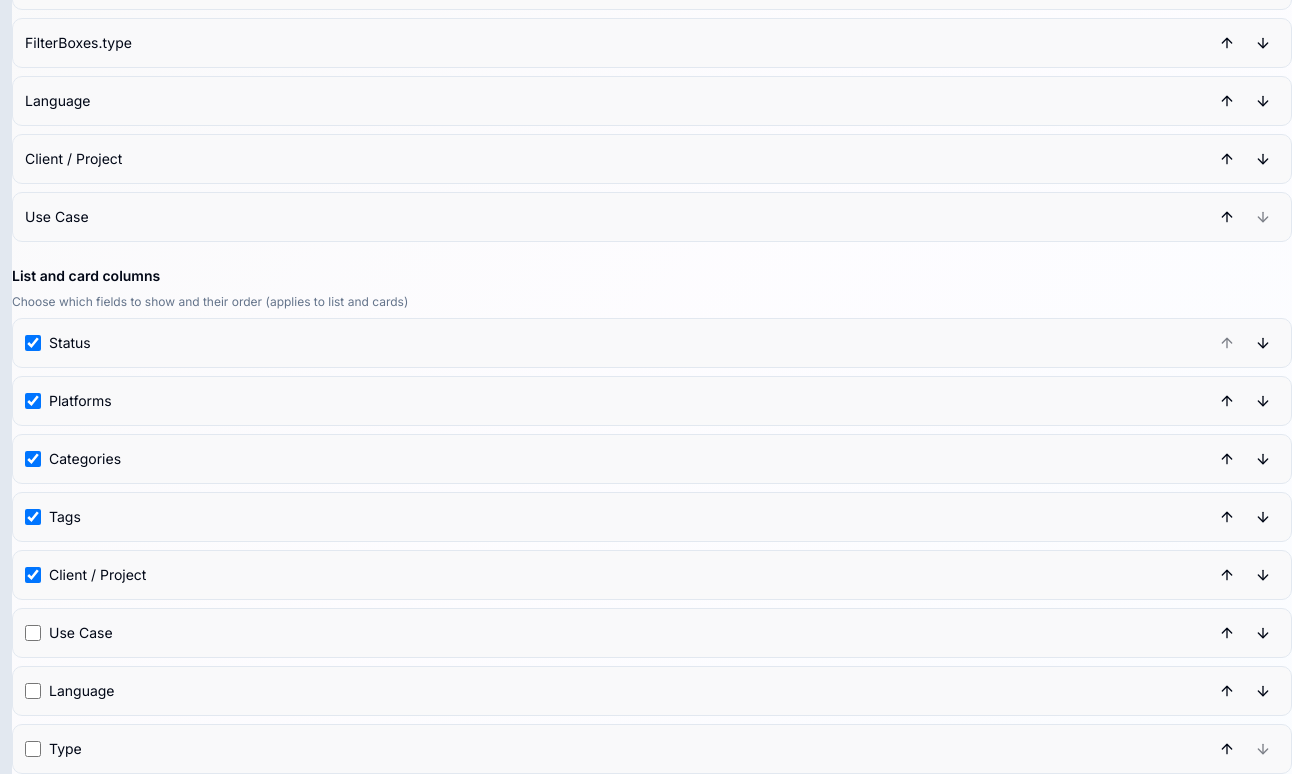
Test case: ProfileDashboardTab › disables the last remaining visible column checkbox
(page scrolled)
Act — uncheck four of the five default visible columns (status stays)
What coordinates should you click on to do the following:
click the checkbox labelled "Platforms"
I would click on:
 (33, 401)
Its box is [25,393,41,409].
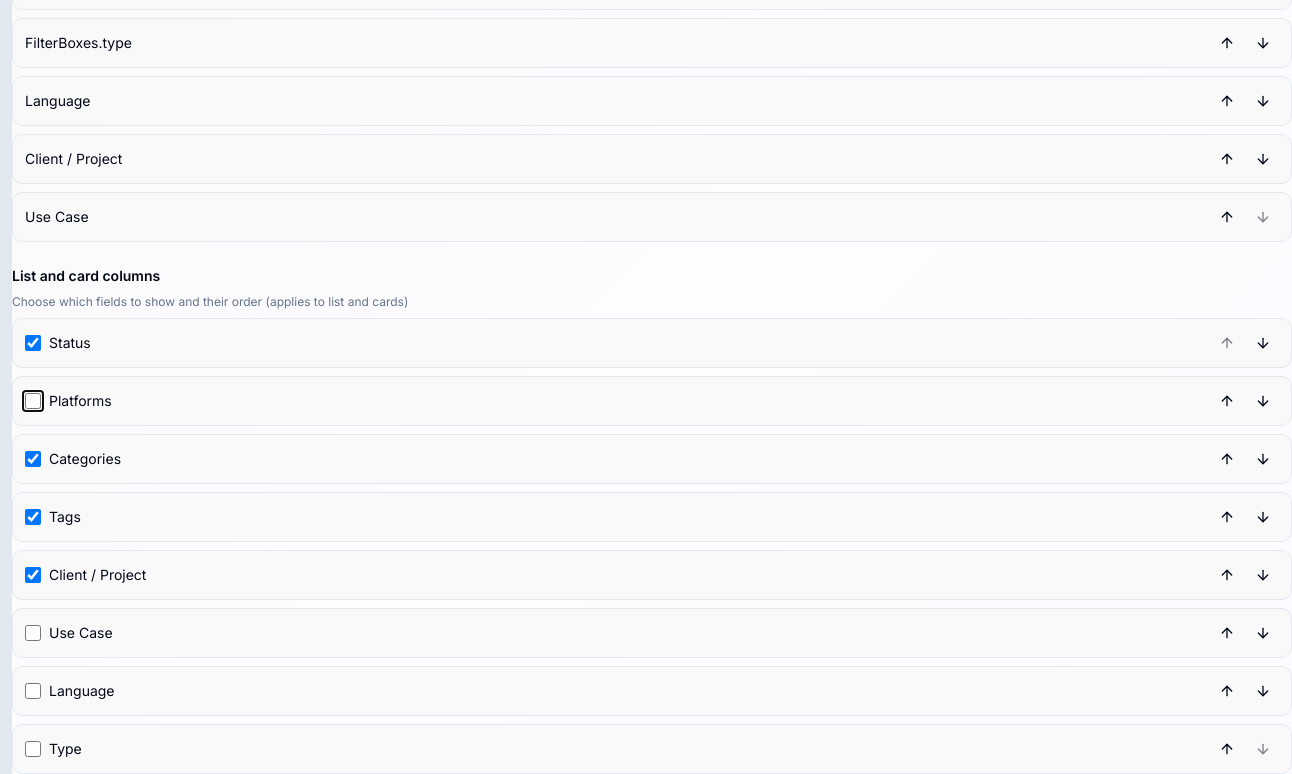
What coordinates should you click on to do the following:
click the checkbox labelled "Categories"
I would click on:
 (33, 459)
Its box is [25,451,41,467].
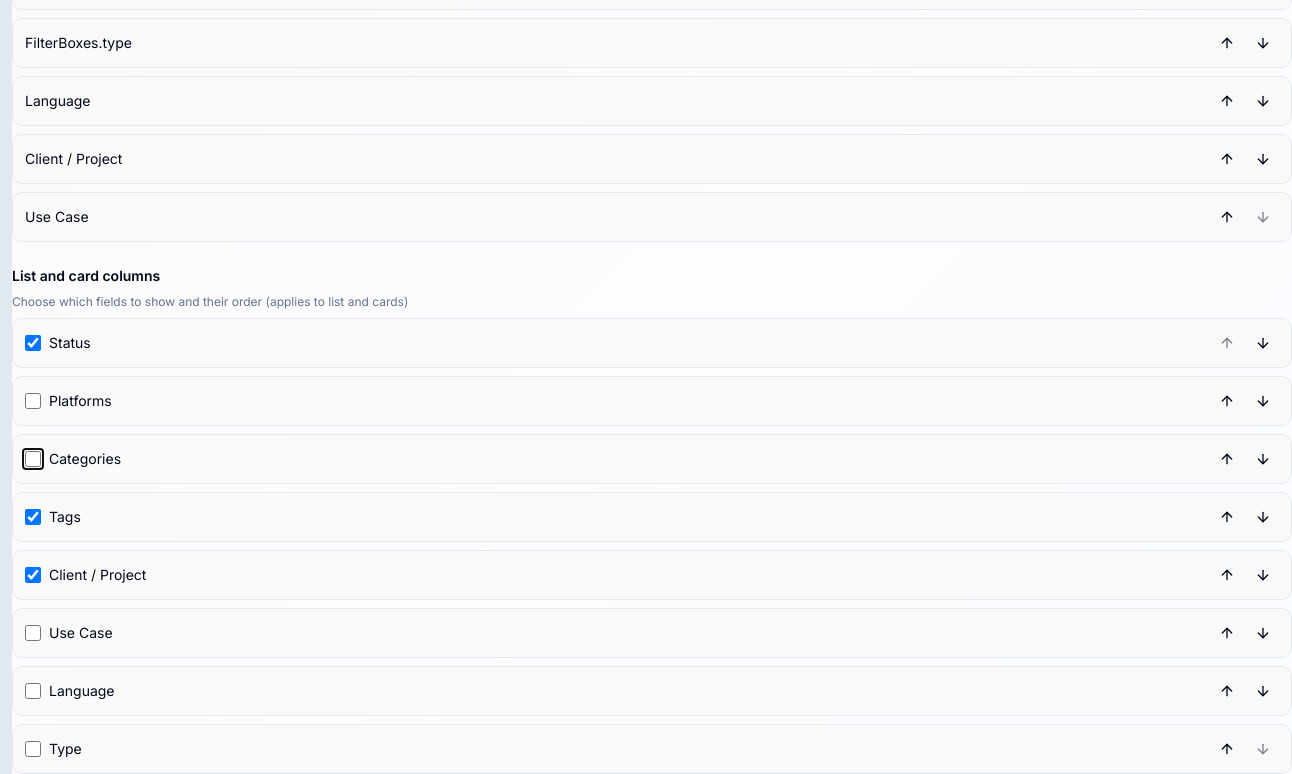
What coordinates should you click on to do the following:
click the checkbox labelled "Tags"
I would click on:
 (33, 517)
Its box is [25,509,41,525].
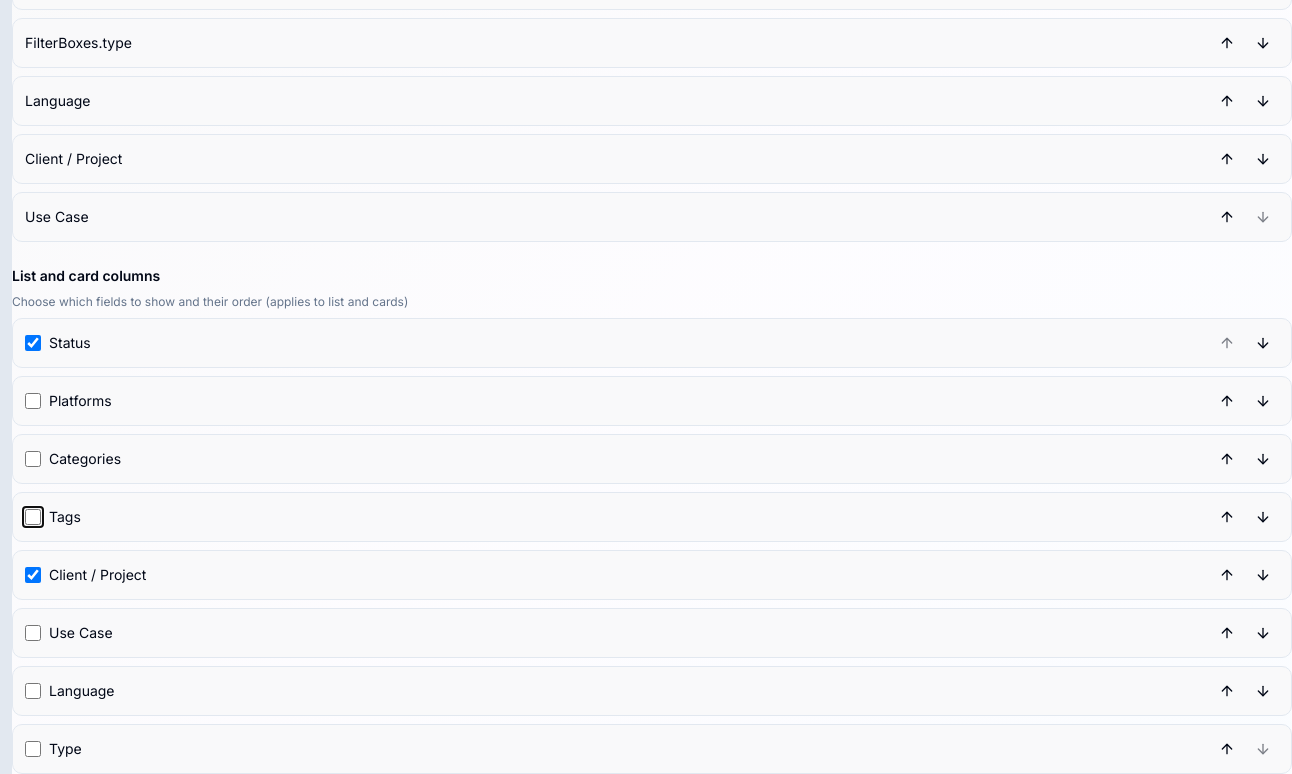
What coordinates should you click on to do the following:
click the checkbox labelled "Client / Project"
I would click on:
 (33, 575)
Its box is [25,567,41,583].
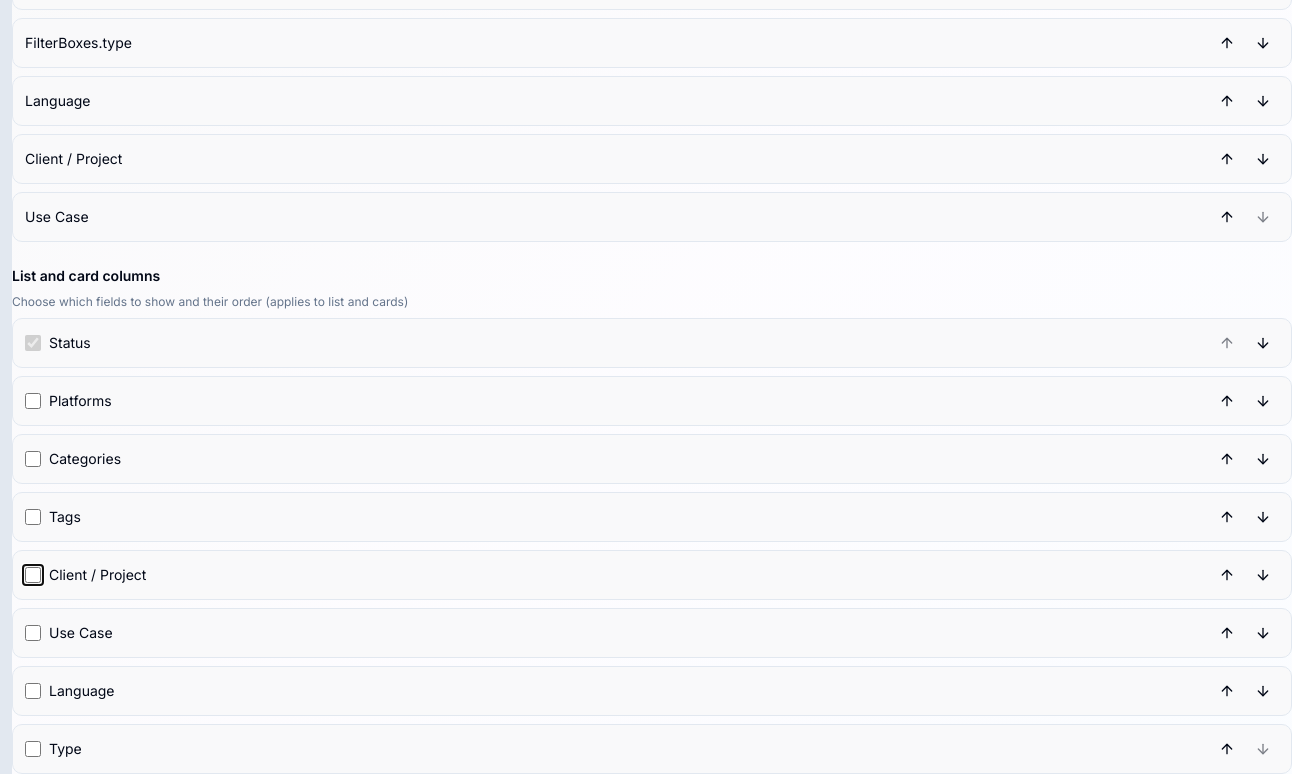
Result: the checkbox labelled "Status" is disabled at [25,335,41,351]
